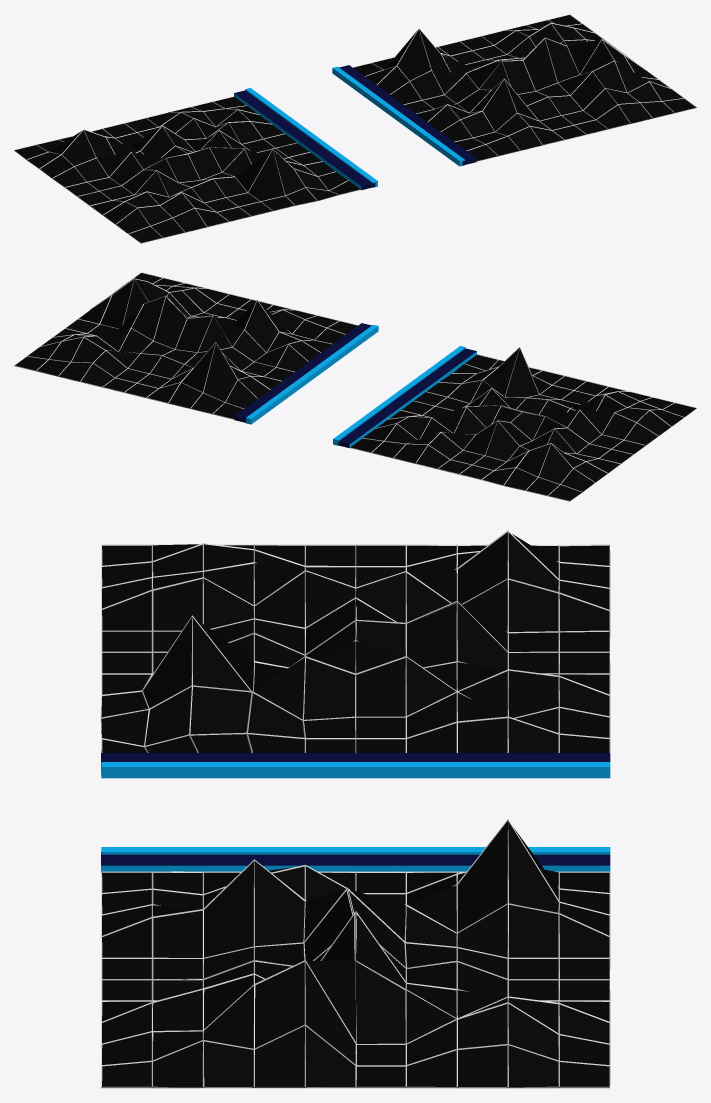
The model's file is 2v_new_platform_mountaine.fbx.
3 renders of one model, top to bottom at view 1: azimuth 30°, elevation 25°; view 2: azimuth 150°, elevation 25°; view 3: azimuth 270°, elevation 25°, orthographic. The views are drawn at different scales.
Parts seen in each view (by area): view 1: Plane, Plane.001, Cube.001; view 2: Plane.001, Plane, Cube.001; view 3: Plane, Plane.001, Cube.001.
Boxes of the visible parts, x1=… form: Plane: x1=352, y1=14, x2=696, y2=161; Plane.001: x1=14, y1=96, x2=360, y2=243; Cube.001: x1=234, y1=65, x2=476, y2=190; Plane.001: x1=350, y1=347, x2=696, y2=501; Plane: x1=14, y1=272, x2=358, y2=419; Cube.001: x1=234, y1=323, x2=476, y2=448; Plane: x1=101, y1=819, x2=610, y2=1088; Plane.001: x1=100, y1=530, x2=610, y2=752; Cube.001: x1=101, y1=753, x2=610, y2=873.
Size of the model in its own units: 4029 by 365 by 1600.
